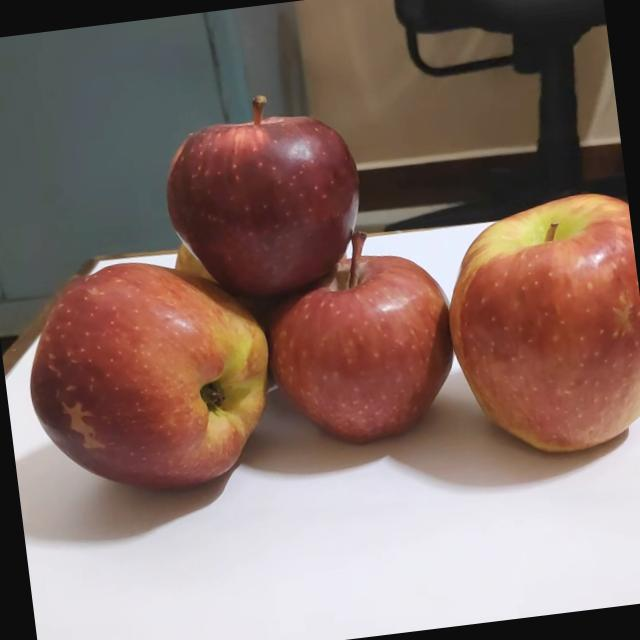apple: (10, 241, 290, 510), (432, 182, 640, 472), (150, 75, 380, 308), (249, 220, 466, 453), (165, 224, 232, 302)
